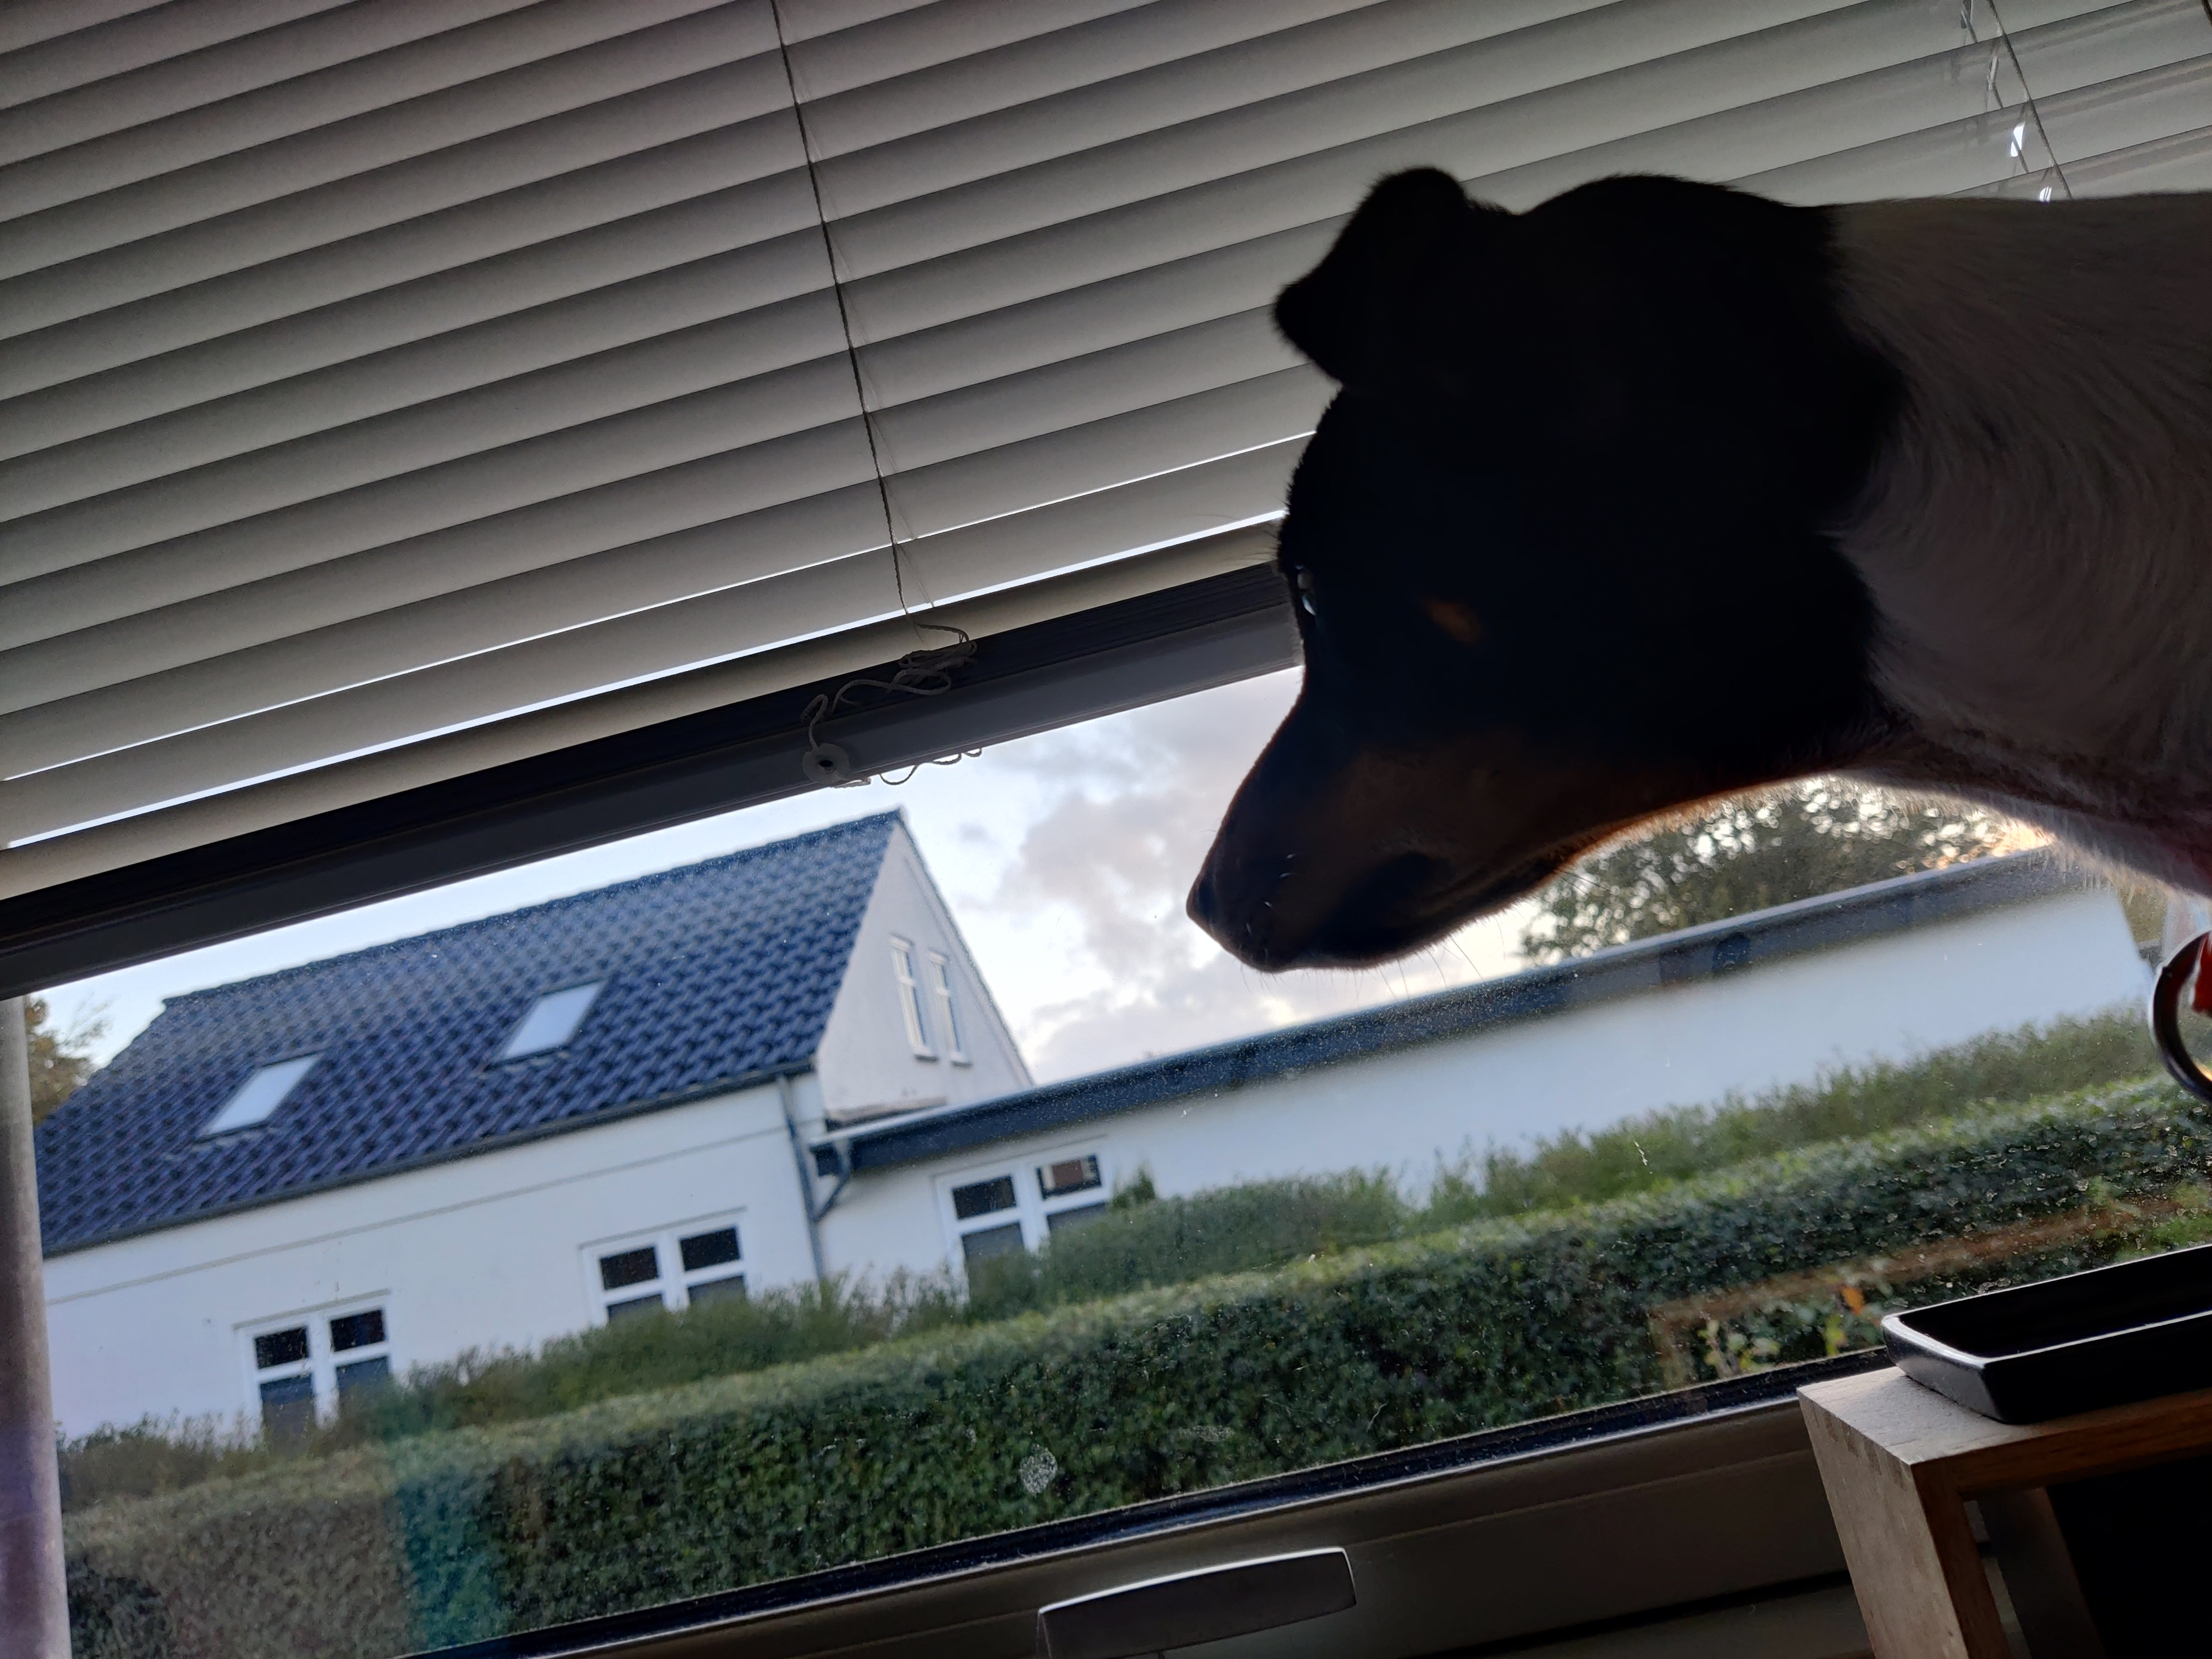Dog: (1179, 160, 2212, 979)
